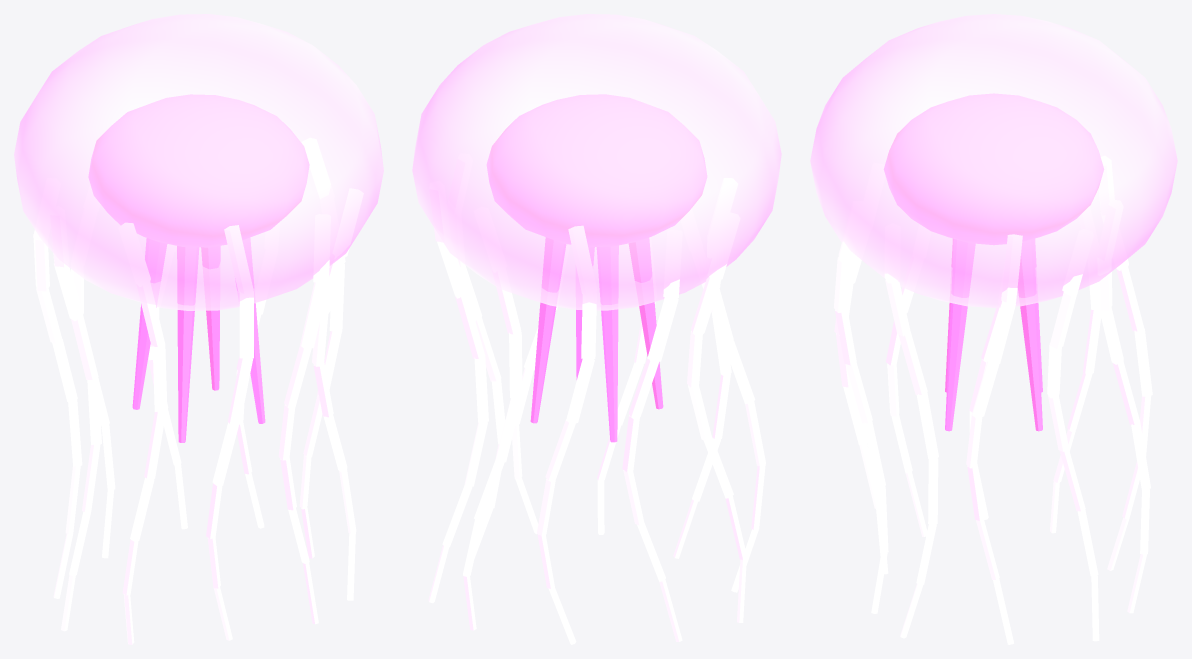
File: mu_jellyfish_pink.glb
The picture shows the model from 3 angles, left to right: view 1: azimuth 30°, elevation 25°; view 2: azimuth 150°, elevation 25°; view 3: azimuth 270°, elevation 25°; orthographic projection.
Visible parts, largest first — view 1: mu_jellyfish_pink; view 2: mu_jellyfish_pink; view 3: mu_jellyfish_pink.
Part boxes in pixels (left/top/right/bottom): mu_jellyfish_pink: left=14, top=14, right=383, bottom=644; mu_jellyfish_pink: left=412, top=14, right=781, bottom=644; mu_jellyfish_pink: left=810, top=14, right=1177, bottom=644.
Bounding box in the file's own units: 2 × 3.31 × 2.
3 materials, 3 textured.
